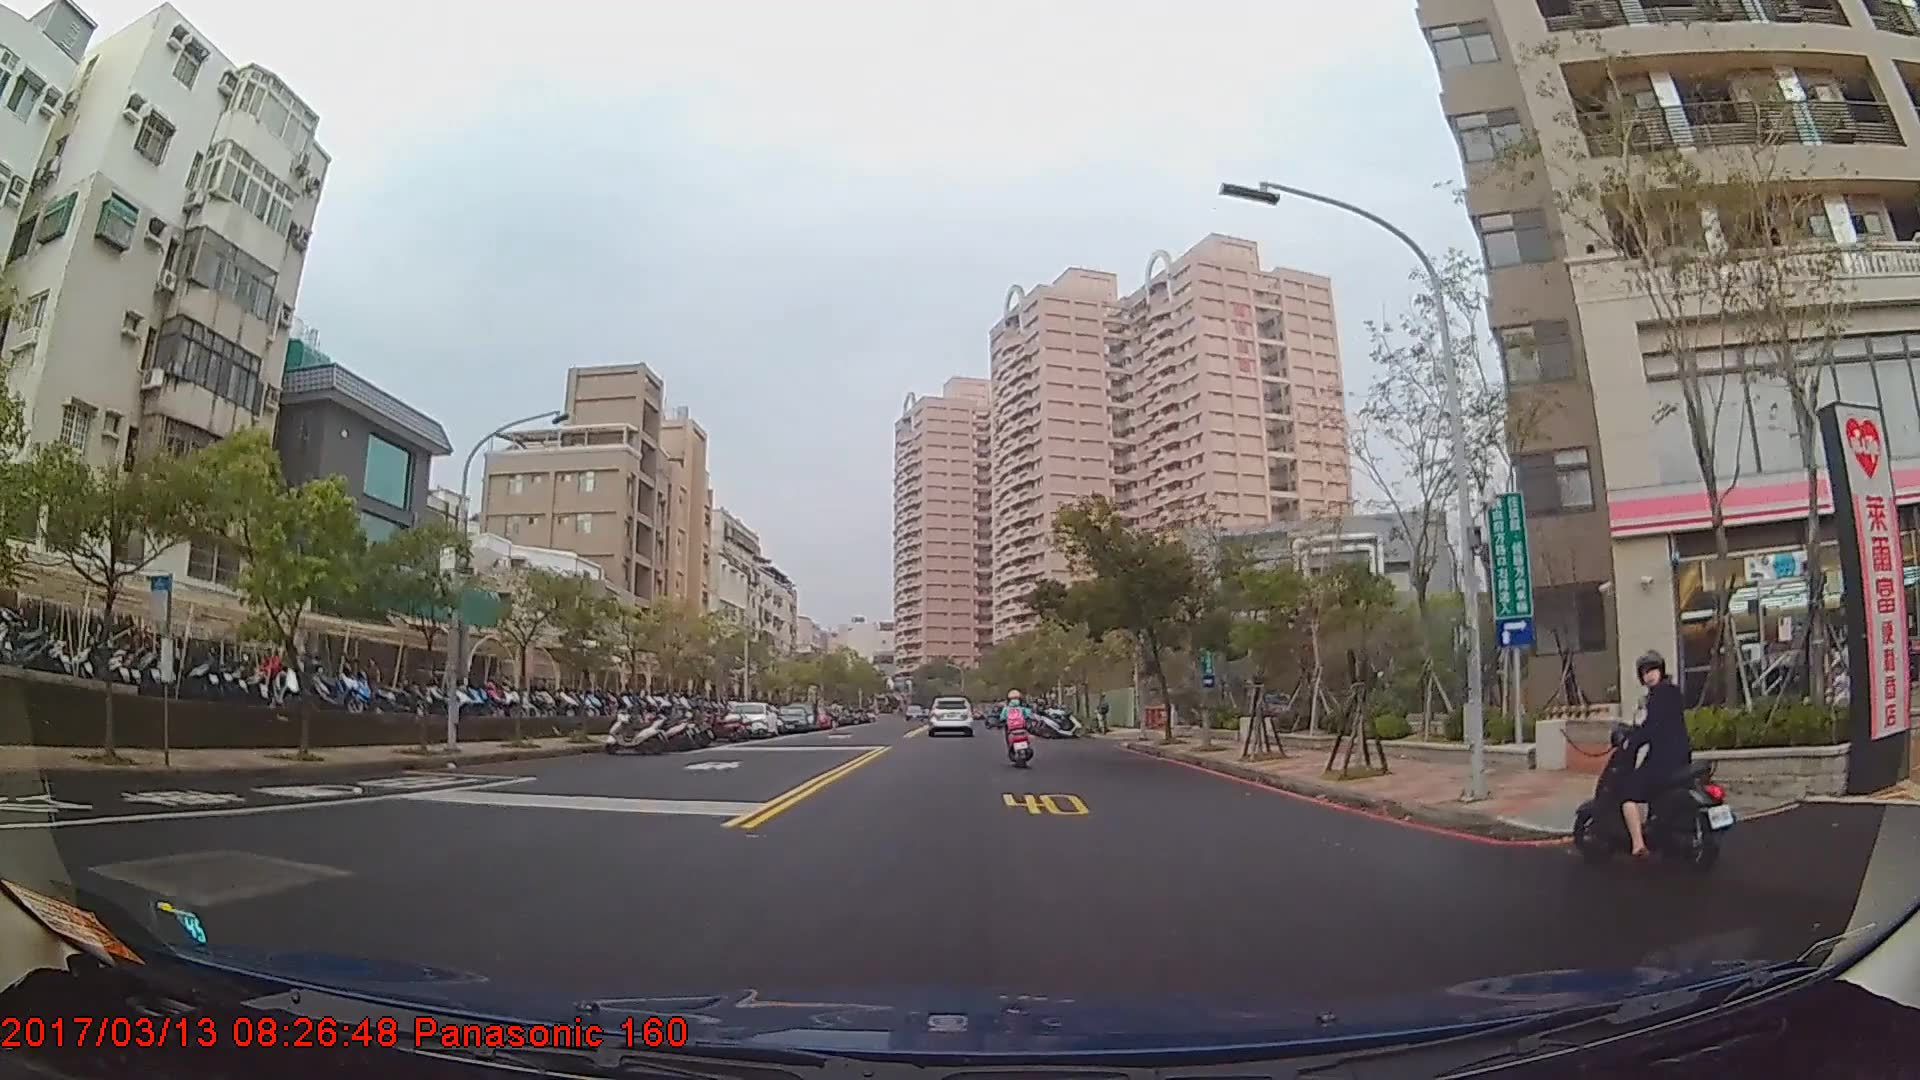rider: (1572, 636, 1745, 862), (1000, 689, 1036, 767)
vehicle: (721, 698, 780, 736), (925, 693, 976, 734), (775, 702, 809, 732)
